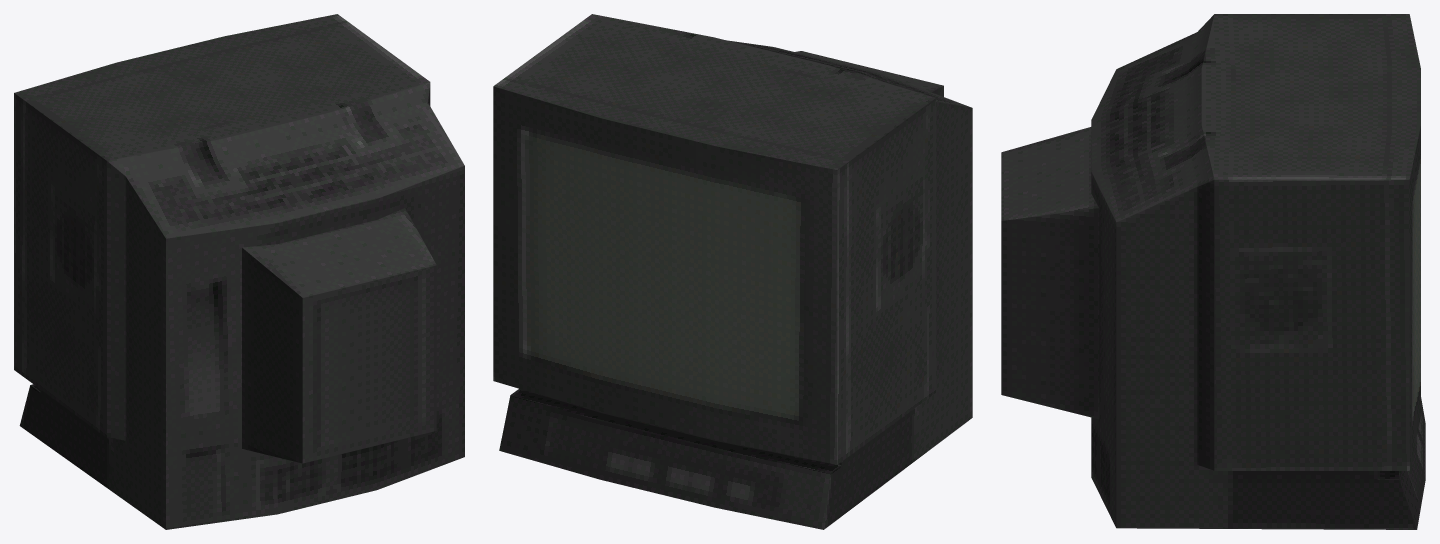
3 renders of one model, left to right at view 1: azimuth 30°, elevation 25°; view 2: azimuth 150°, elevation 25°; view 3: azimuth 270°, elevation 25°, orthographic. The views are drawn at different scales.
Parts seen in each view (by area): view 1: TVLow; view 2: TVLow; view 3: TVLow.
Part boxes in pixels (x1=…): TVLow: x1=14, y1=14, x2=464, y2=529; TVLow: x1=493, y1=14, x2=972, y2=529; TVLow: x1=1001, y1=14, x2=1425, y2=529.
Bounding box in the file's own units: 0.3619 × 0.3612 × 0.3916.
1 material, 1 textured.
